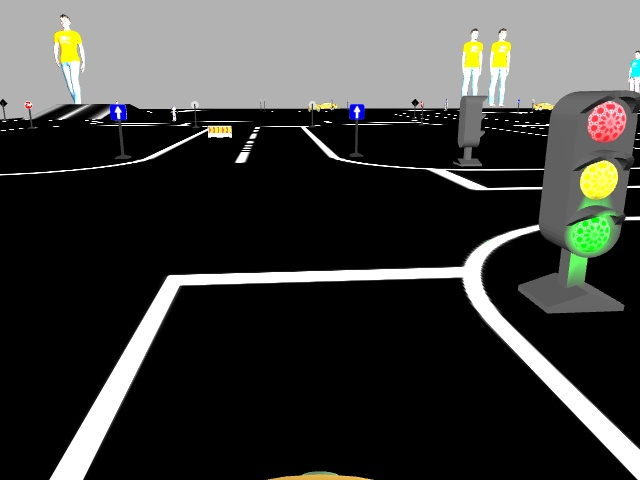ClosedRoadStand: (207, 126, 231, 139)
OneWay: (109, 104, 124, 119), (349, 103, 363, 118)
TrafficLight: (546, 93, 634, 262)
